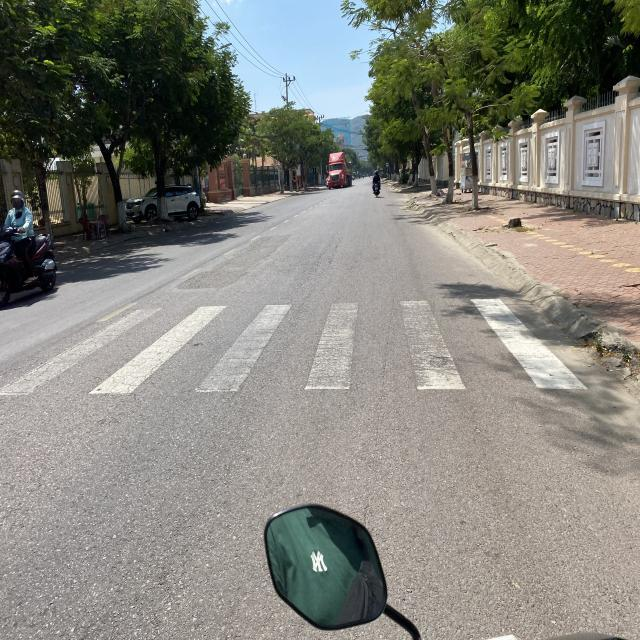walk-crossing: (0, 301, 590, 392)
